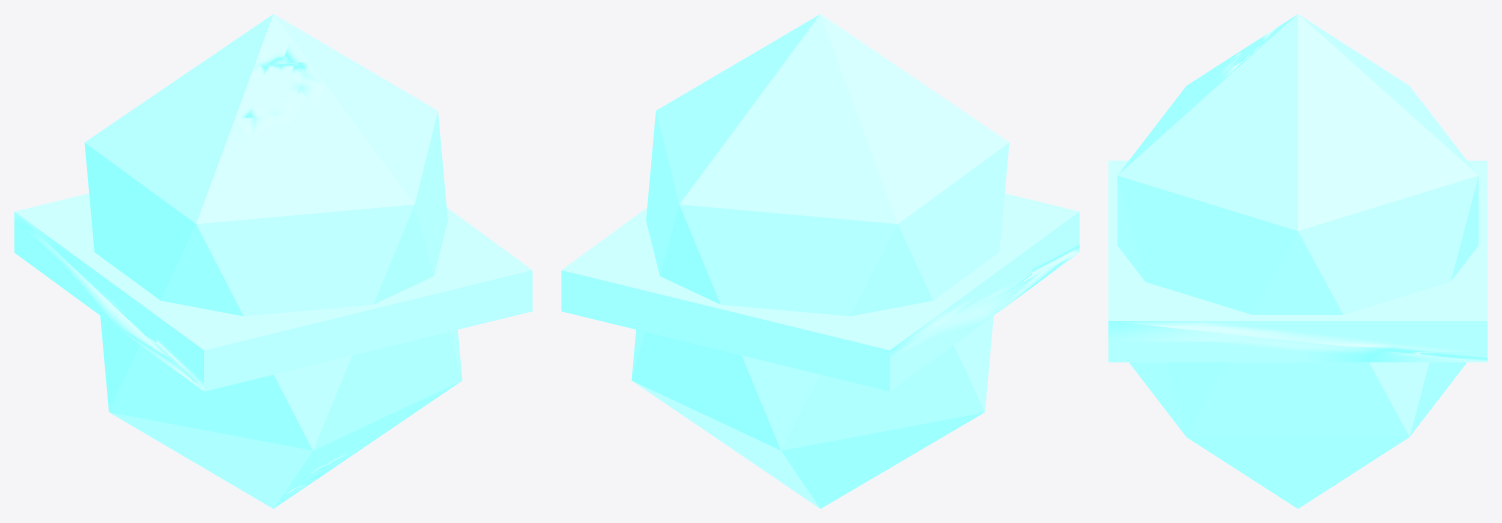
The model's file is gem.glb.
3 views of the same model, side by side, from view 1: azimuth 30°, elevation 25°; view 2: azimuth 150°, elevation 25°; view 3: azimuth 270°, elevation 25° (orthographic).
Parts seen in each view (by area): view 1: Gem; view 2: Gem; view 3: Gem.
Part boxes in pixels (x1,y1,x2,y2): Gem: (14,14,532,508); Gem: (561,14,1079,508); Gem: (1108,14,1487,508).
Size of the model in its own units: 0.5009 by 0.72 by 0.5.
